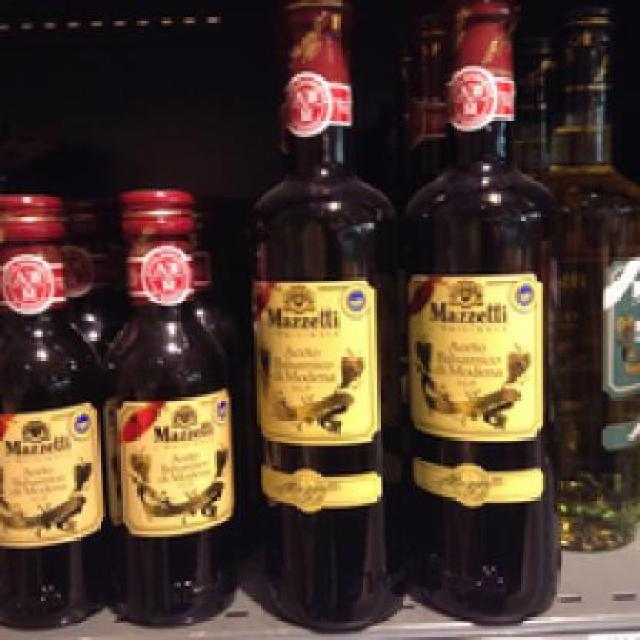Vinegar: (236, 0, 412, 632), (400, 3, 566, 620), (96, 185, 250, 626), (0, 193, 109, 630)
